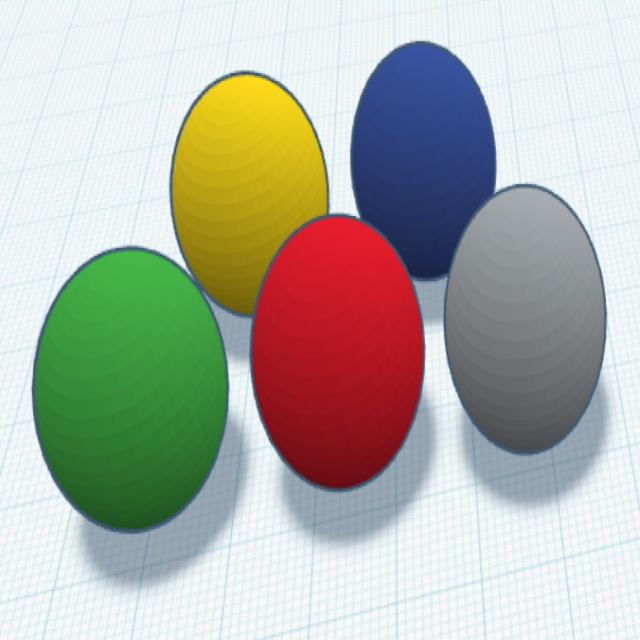sphere: (31, 242, 230, 538), (248, 208, 428, 497), (442, 182, 608, 459)
